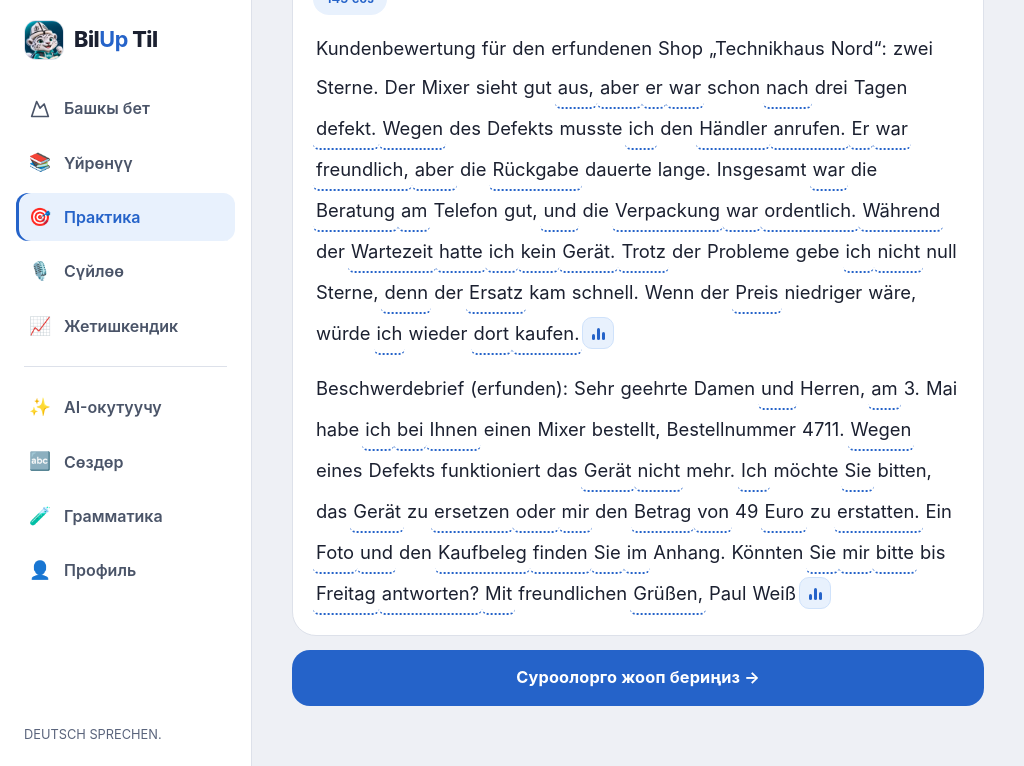
Test case: reading and listening flows › ky: the reading shows its text and questions; answering one gives feedback and no error is logged
Later steps or results of the test are not shown.
(page scrolled)
Click the button "Суроолорго жооп бериңиз →" at {"x": 638, "y": 678}, box [292,650,984,706]
(page scrolled)
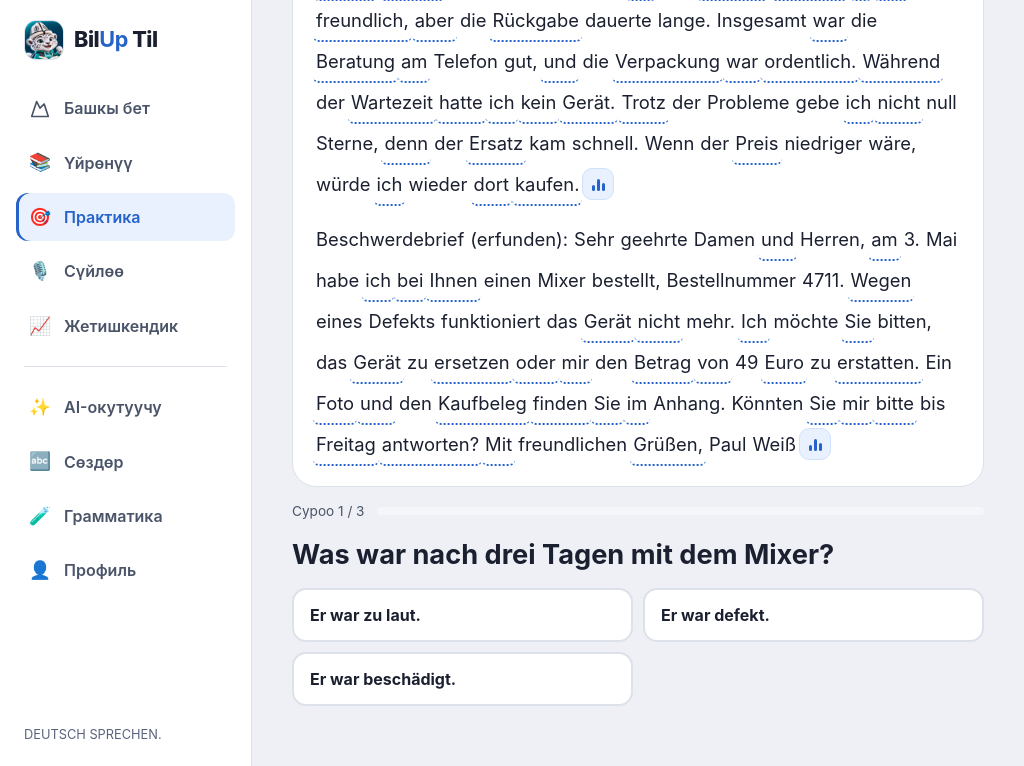
Now the text "Was war nach drei Tagen mit dem Mixer?" is shown, box [292,537,834,574]
Now the button "Er war beschädigt." is shown, box [292,652,633,706]
